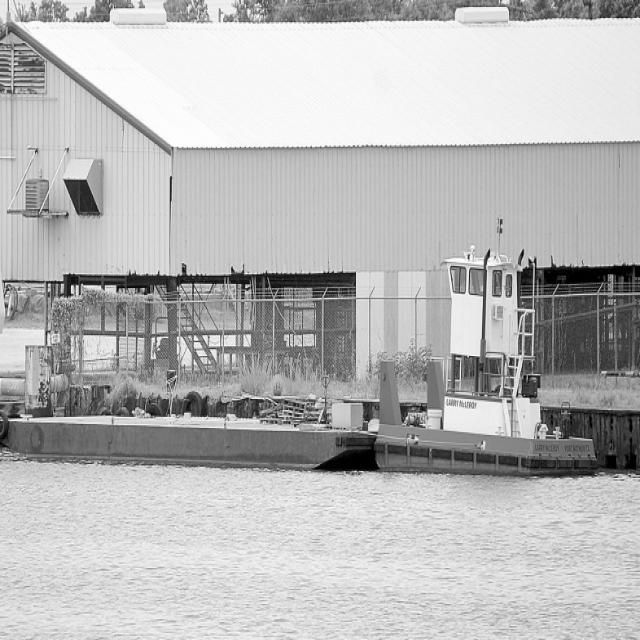tugboat: (371, 215, 604, 496)
